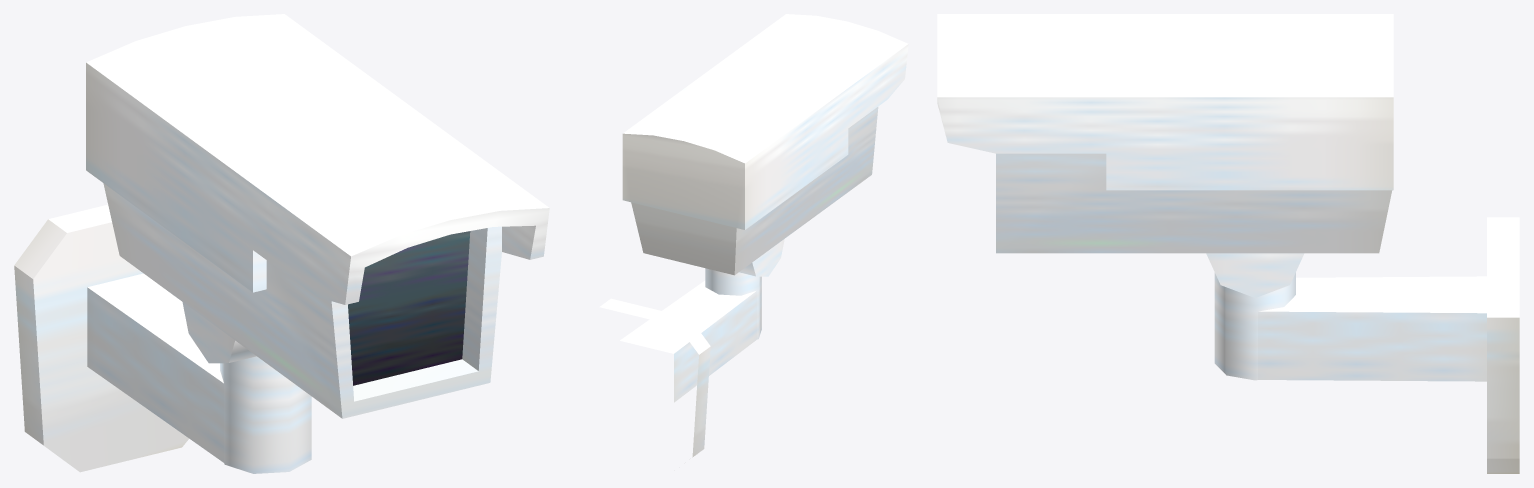
The model's file is 1e0fada9-f441-496c-9d16-74c994210f7b.glb.
The picture shows the model from 3 angles, left to right: view 1: azimuth 30°, elevation 25°; view 2: azimuth 150°, elevation 25°; view 3: azimuth 270°, elevation 25°; orthographic projection. The views are drawn at different scales.
Parts seen in each view (by area): view 1: SurveillanceCameras; view 2: SurveillanceCameras; view 3: SurveillanceCameras.
Boxes of the visible parts, x1,y1,x2,y2 form: SurveillanceCameras: (14, 14, 549, 473); SurveillanceCameras: (599, 14, 908, 457); SurveillanceCameras: (937, 14, 1519, 473).
Size of what is drawn, in the model's own units: 0.1879 by 0.4279 by 0.5542.
1 material, 1 textured.
